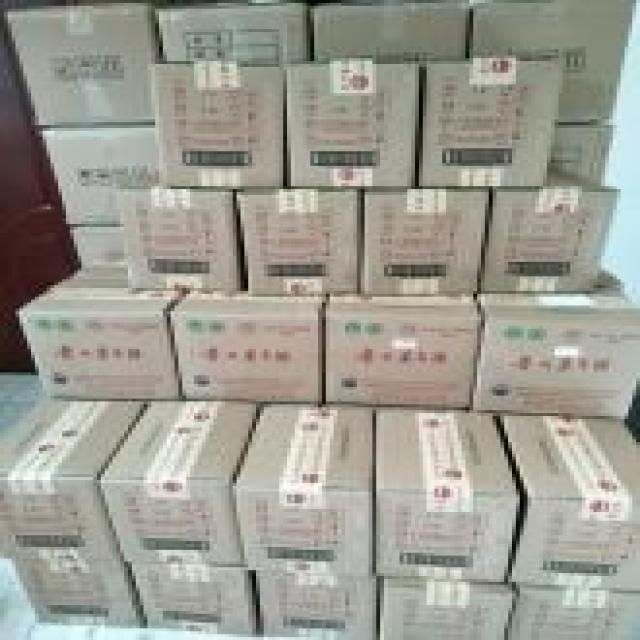box: (102, 392, 262, 567), (374, 406, 526, 583), (494, 411, 636, 588), (475, 265, 636, 418), (232, 405, 376, 575), (2, 396, 153, 558), (18, 265, 188, 398), (0, 2, 165, 130), (474, 0, 636, 125), (416, 60, 566, 188), (322, 292, 488, 407), (483, 159, 621, 292), (284, 60, 424, 184), (171, 292, 326, 402), (157, 64, 284, 186), (363, 187, 493, 292), (238, 188, 365, 292), (39, 124, 163, 227), (121, 187, 241, 292), (155, 1, 316, 65), (125, 560, 257, 634), (313, 0, 474, 59), (9, 559, 143, 624), (249, 568, 375, 637), (375, 578, 515, 635), (505, 583, 636, 637), (550, 123, 616, 183), (73, 224, 126, 267)
